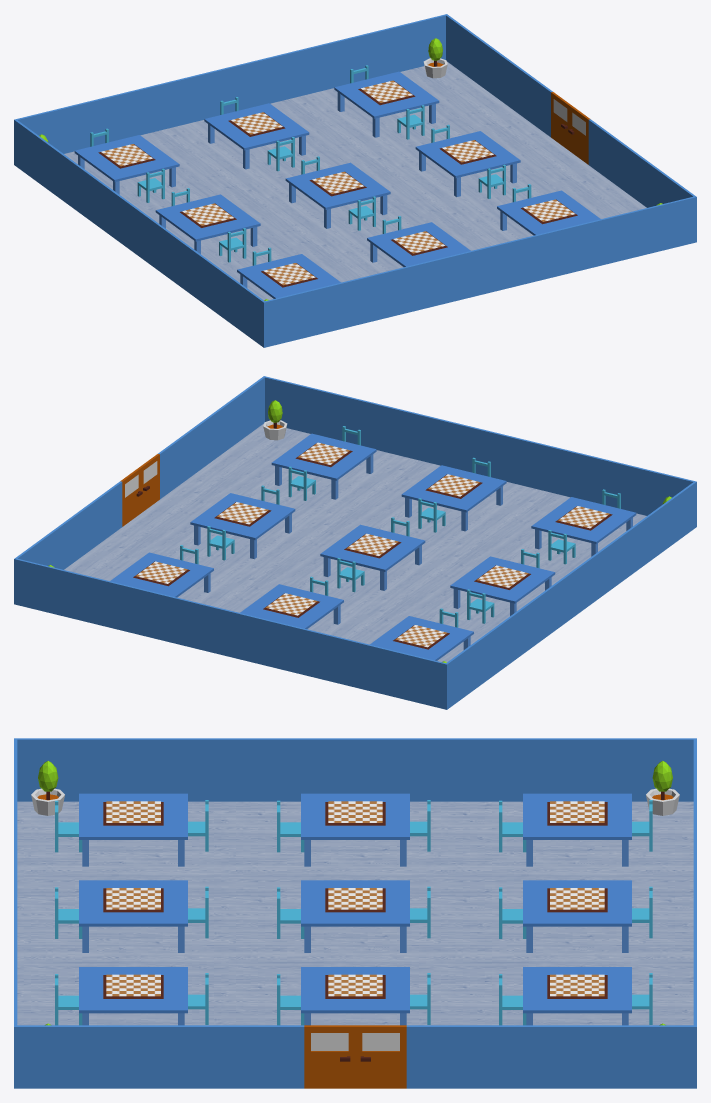
The model's file is 2_StudentClub.fbx.
3 views of the same model, one above another, from view 1: azimuth 30°, elevation 25°; view 2: azimuth 150°, elevation 25°; view 3: azimuth 270°, elevation 25° (orthographic). The views are drawn at different scales.
Visible parts, largest first — view 1: 1_Class1.001, 0_InnerGround.005, 0_Chair&Table.038, 0_Chair&Table.036, 0_Chair&Table.039, 0_Chair&Table.035, 0_Chair&Table.037, 0_Chair&Table.040, 0_Chair&Table.033, 0_Chair&Table.032, 0_Chair&Table.034, 2_Door1Class.011 (+8 smaller); view 2: 1_Class1.001, 0_InnerGround.005, 0_Chair&Table.032, 0_Chair&Table.036, 0_Chair&Table.035, 0_Chair&Table.033, 0_Chair&Table.037, 0_Chair&Table.034, 0_Chair&Table.039, 0_Chair&Table.038, 0_Chair&Table.040, 2_Door1Class.001 (+8 smaller); view 3: 0_InnerGround.005, 1_Class1.001, 0_Chair&Table.034, 0_Chair&Table.037, 0_Chair&Table.040, 0_Chair&Table.033, 0_Chair&Table.036, 0_Chair&Table.039, 0_Chair&Table.032, 0_Chair&Table.035, 0_Chair&Table.038, 2_Door1Class.001 (+12 smaller).
Part boxes in pixels (x1,y1,x2,y2): 1_Class1.001: [14, 14, 696, 347]; 0_InnerGround.005: [64, 61, 646, 300]; 0_Chair&Table.038: [334, 71, 439, 137]; 0_Chair&Table.036: [285, 162, 390, 228]; 0_Chair&Table.039: [204, 103, 309, 169]; 0_Chair&Table.035: [415, 131, 520, 197]; 0_Chair&Table.037: [155, 194, 260, 253]; 0_Chair&Table.040: [74, 135, 179, 194]; 0_Chair&Table.033: [367, 222, 470, 266]; 0_Chair&Table.032: [497, 190, 600, 235]; 0_Chair&Table.034: [237, 254, 340, 298]; 2_Door1Class.011: [568, 105, 590, 164]; 1_Class1.001: [14, 376, 696, 709]; 0_InnerGround.005: [64, 423, 646, 662]; 0_Chair&Table.032: [271, 433, 376, 499]; 0_Chair&Table.036: [320, 524, 425, 590]; 0_Chair&Table.035: [190, 493, 295, 559]; 0_Chair&Table.033: [401, 465, 506, 531]; 0_Chair&Table.037: [450, 556, 555, 615]; 0_Chair&Table.034: [531, 497, 636, 556]; 0_Chair&Table.039: [240, 584, 343, 628]; 0_Chair&Table.038: [110, 552, 213, 597]; 0_Chair&Table.040: [370, 616, 473, 660]; 2_Door1Class.001: [120, 467, 142, 526]; 0_InnerGround.005: [17, 801, 693, 1025]; 1_Class1.001: [14, 738, 696, 1088]; 0_Chair&Table.034: [79, 793, 187, 866]; 0_Chair&Table.037: [301, 793, 409, 866]; 0_Chair&Table.040: [523, 793, 631, 866]; 0_Chair&Table.033: [79, 880, 187, 952]; 0_Chair&Table.036: [301, 880, 409, 952]; 0_Chair&Table.039: [523, 880, 631, 952]; 0_Chair&Table.032: [79, 967, 187, 1025]; 0_Chair&Table.035: [301, 967, 409, 1025]; 0_Chair&Table.038: [523, 967, 631, 1025]; 2_Door1Class.001: [355, 1025, 406, 1088].
Bounding box in the file's own units: 2000 × 2015 × 200.
4 materials, 2 textured.
